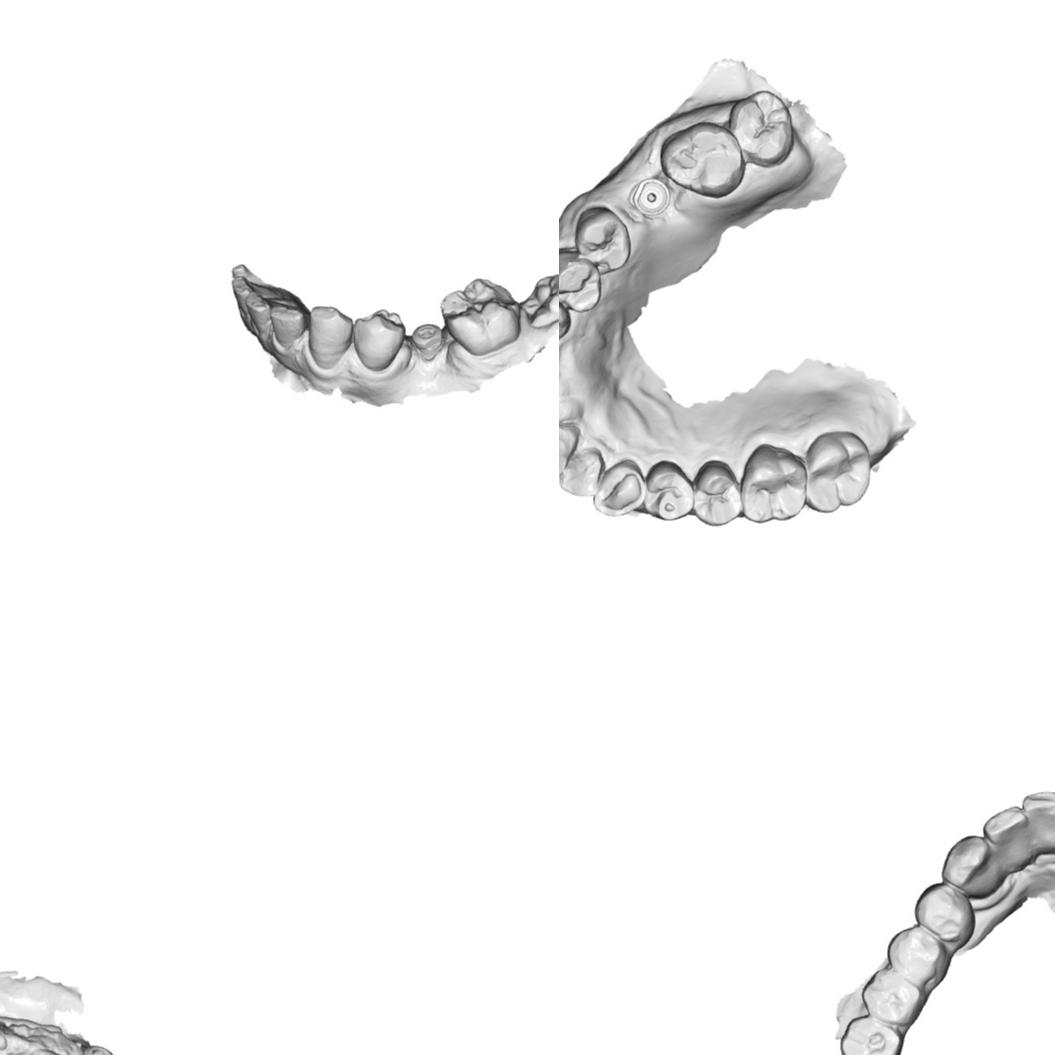canine: (941, 833, 999, 900), (304, 303, 356, 372), (592, 457, 645, 518)
implant: (632, 178, 669, 217), (76, 1041, 115, 1055)
implant_minus: (408, 317, 445, 365)
incisor: (982, 805, 1028, 870), (1020, 790, 1055, 857), (559, 451, 604, 500), (268, 301, 307, 351), (246, 291, 276, 349), (231, 276, 283, 306), (559, 422, 583, 484)
molar: (657, 120, 747, 201), (438, 275, 524, 357), (802, 429, 874, 515), (737, 440, 804, 525), (726, 88, 796, 169), (857, 966, 925, 1028), (839, 1015, 903, 1055)
premolar: (887, 924, 951, 990), (572, 203, 632, 271), (911, 881, 974, 945), (690, 457, 744, 527), (641, 458, 697, 522), (351, 308, 406, 373), (559, 247, 603, 315)
